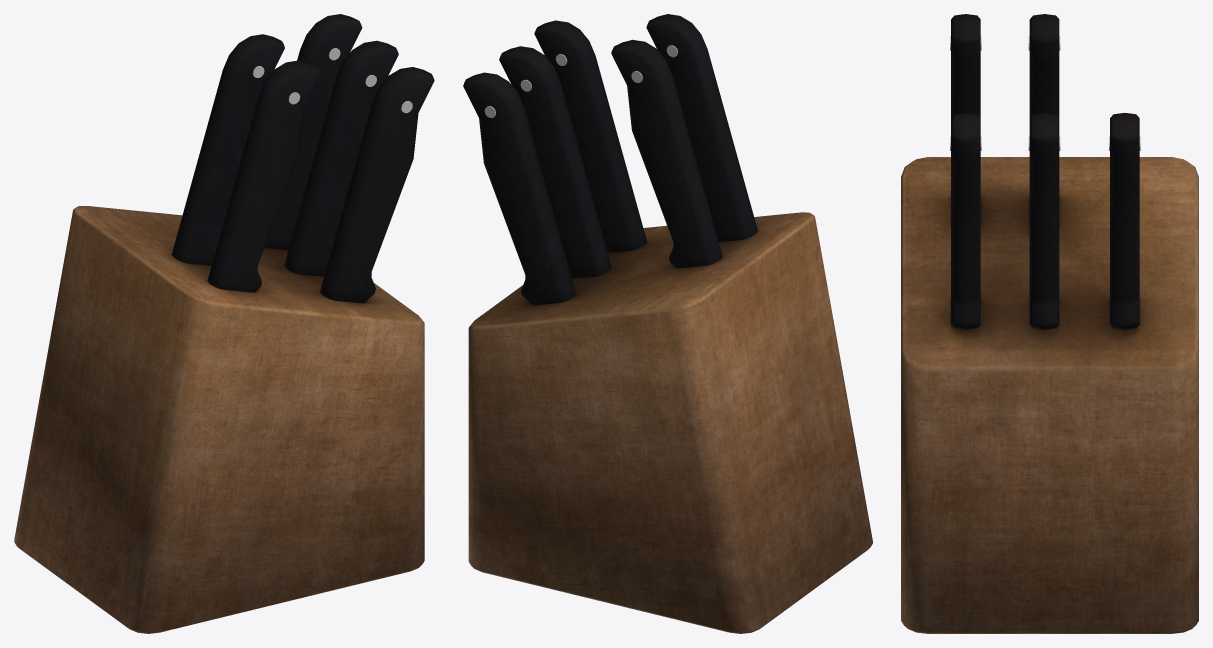
File: PROP_KnifeHolder.fbx
3 renders of one model, left to right at view 1: azimuth 30°, elevation 25°; view 2: azimuth 150°, elevation 25°; view 3: azimuth 270°, elevation 25°, orthographic. The views are drawn at different scales.
Parts seen in each view (by area): view 1: PROP_KnifeHolder; view 2: PROP_KnifeHolder; view 3: PROP_KnifeHolder.
Part boxes in pixels (left/top/right/bottom): PROP_KnifeHolder: left=14, top=14, right=434, bottom=633; PROP_KnifeHolder: left=463, top=14, right=872, bottom=633; PROP_KnifeHolder: left=901, top=14, right=1198, bottom=633.
Bounding box in the file's own units: 10.96 × 16.53 × 8.
